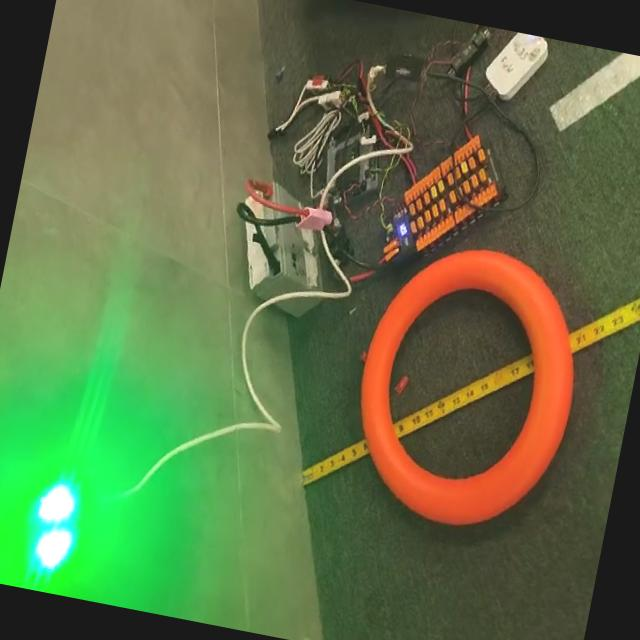note: (332, 228, 598, 548)
